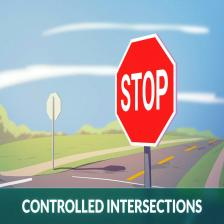Stop-sign: (114, 32, 179, 147)
